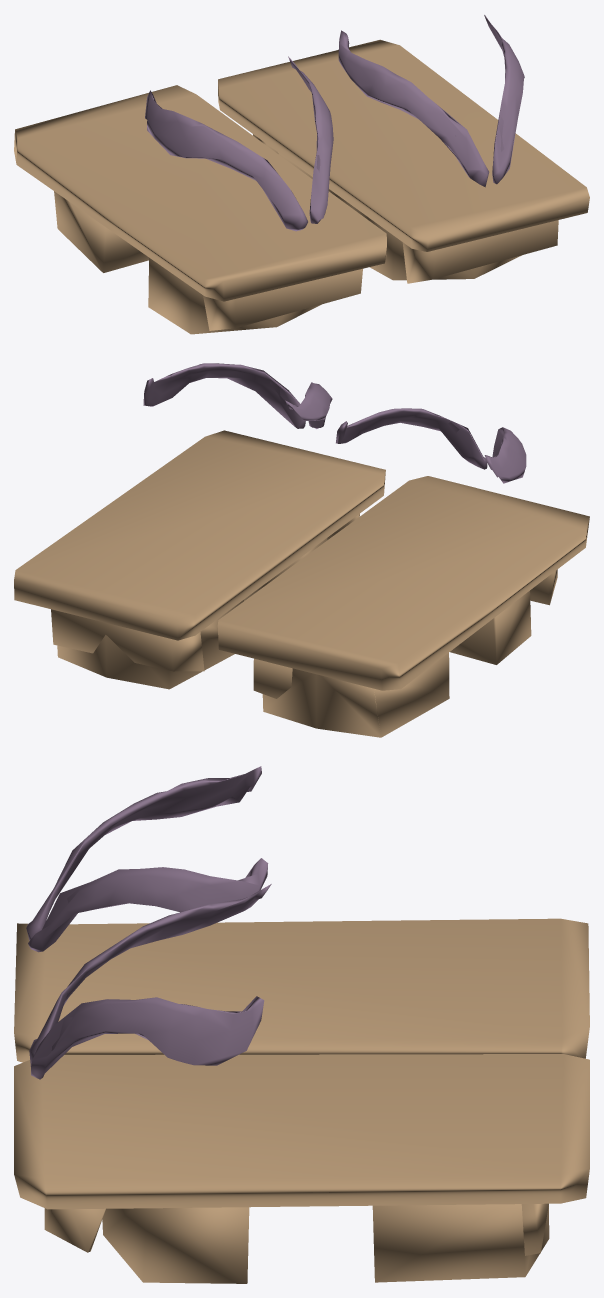
File: geta-only.glb
3 views of the same model, one above another, from view 1: azimuth 30°, elevation 25°; view 2: azimuth 150°, elevation 25°; view 3: azimuth 270°, elevation 25° (orthographic). The views are drawn at different scales.
Visible parts, largest first — view 1: Footwear_geta_0, Footwear_geta_1; view 2: Footwear_geta_0, Footwear_geta_1; view 3: Footwear_geta_0, Footwear_geta_1.
Part boxes in pixels (x1,y1,x2,y2): Footwear_geta_0: [14, 39, 589, 334]; Footwear_geta_1: [145, 15, 524, 231]; Footwear_geta_0: [14, 430, 589, 737]; Footwear_geta_1: [143, 363, 526, 483]; Footwear_geta_0: [14, 918, 589, 1283]; Footwear_geta_1: [26, 766, 271, 1079].
Size of the model in its own units: 0.8318 by 0.4578 by 0.7874.
